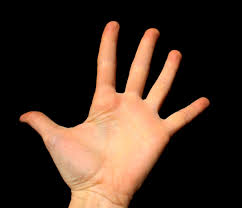palm: (18, 20, 211, 203)
